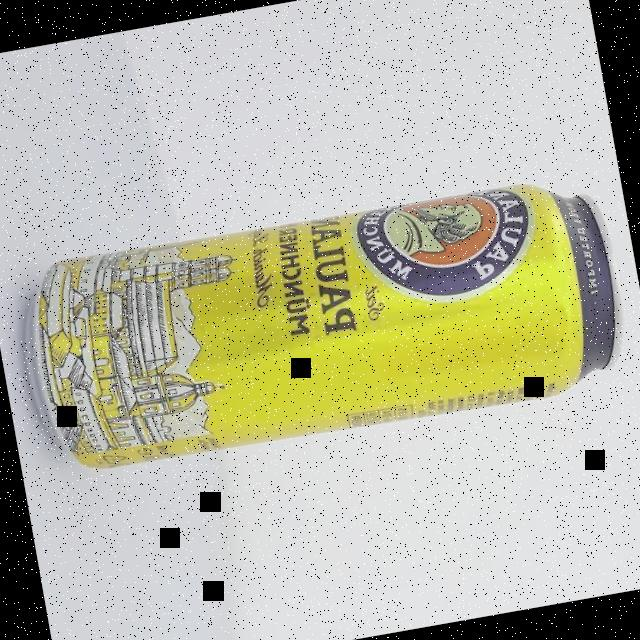can: (8, 164, 638, 485)
